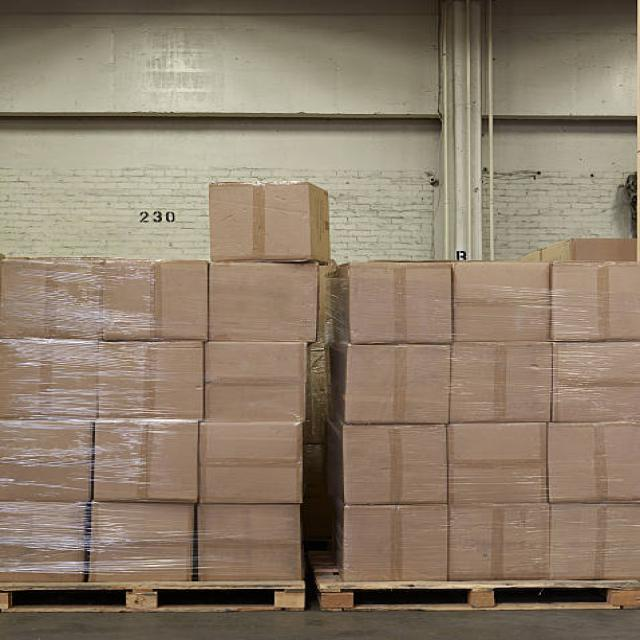Wooden-Pallets: (0, 572, 312, 613), (323, 576, 640, 616)
